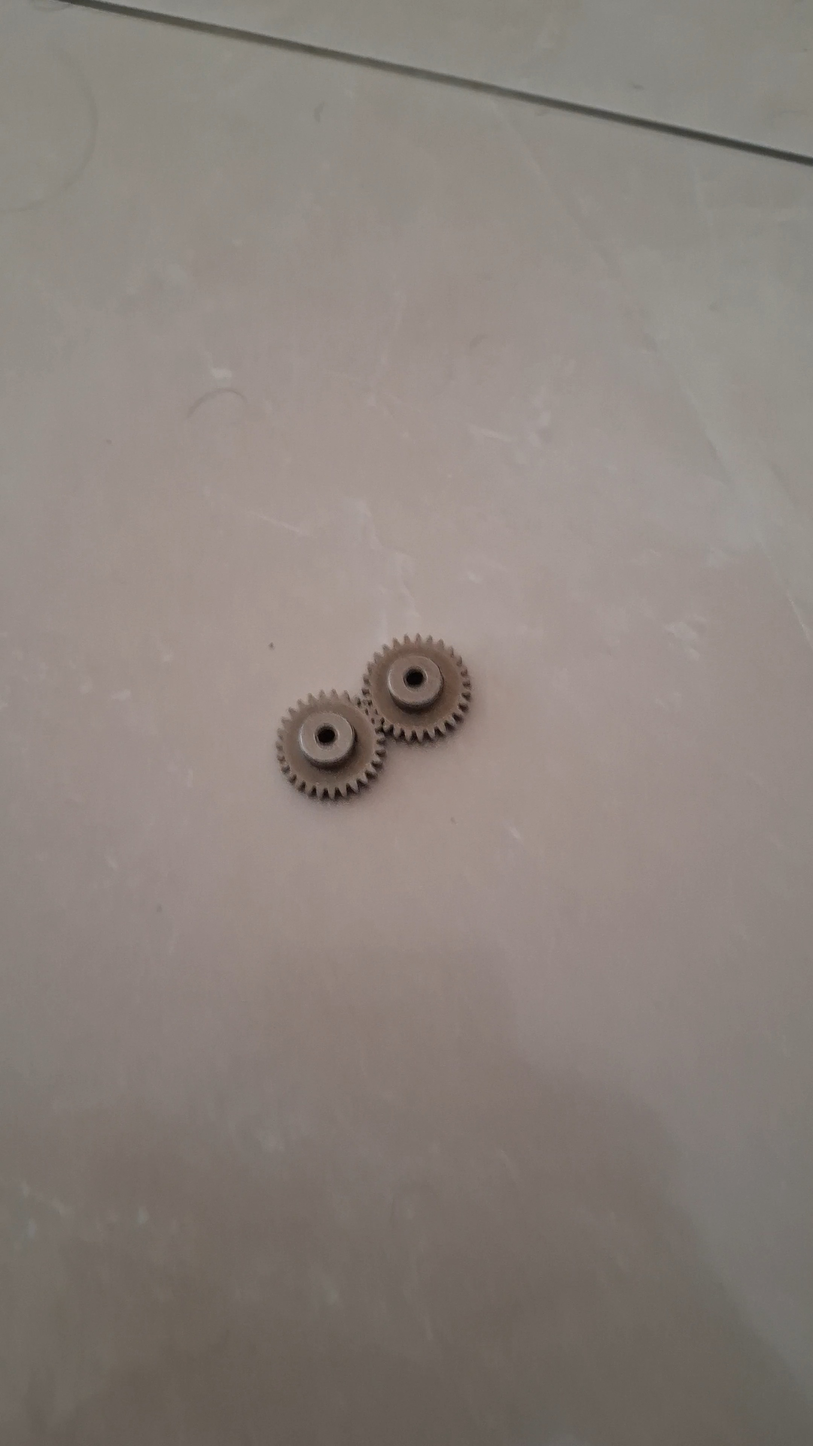spur gear: (277, 692, 385, 799), (362, 636, 470, 741)
